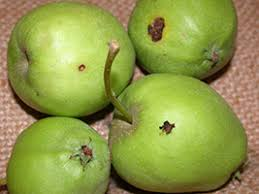apple: (10, 12, 135, 115), (12, 121, 106, 194)
damaged_apple: (111, 71, 247, 187), (129, 1, 232, 74)
